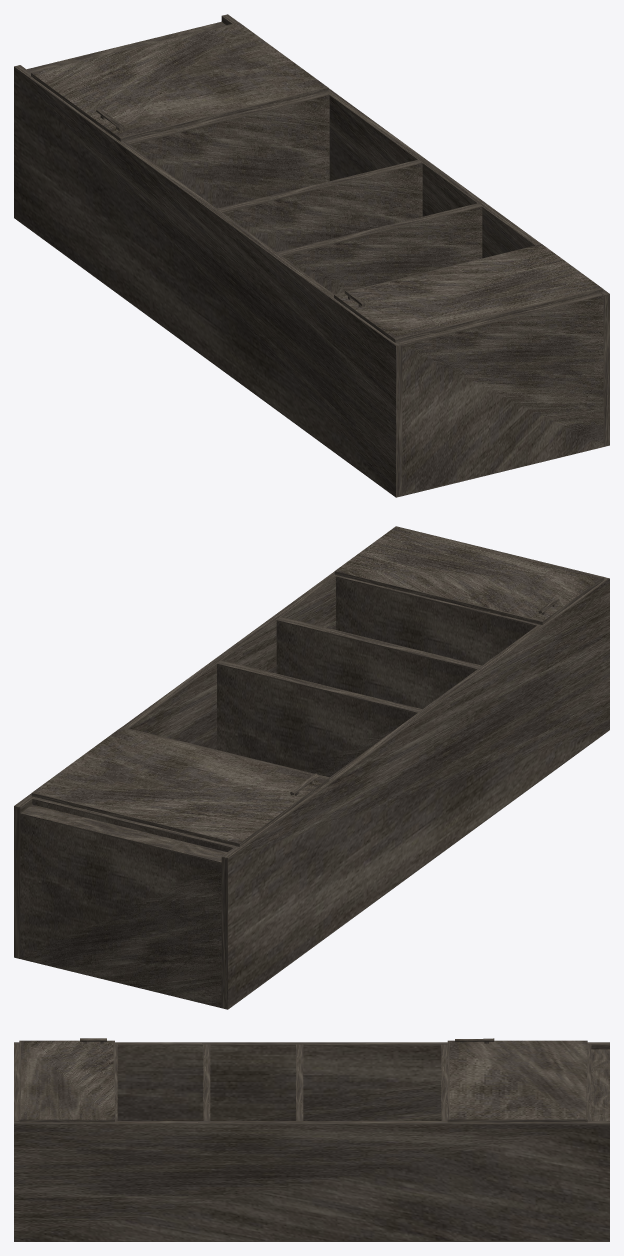
The model's file is bookshelf380_wtf.obj.
The picture shows the model from 3 angles, top to bottom: view 1: azimuth 30°, elevation 25°; view 2: azimuth 150°, elevation 25°; view 3: azimuth 270°, elevation 25°; orthographic projection. The views are drawn at different scales.
Parts seen in each view (by area): view 1: group6, group7, group9, group14, group13, group12, group11, group5, group15; view 2: group6, group15, group9, group12, group13, group11, group10, group5, group4; view 3: group5, group6, group9, group13, group15, group11, group12, group14, group7, group4.
Part boxes in pixels (box(x1,y1,x2,y2)): group6: box(14, 65, 402, 497); group7: box(399, 293, 603, 495); group9: box(31, 22, 328, 141); group14: box(125, 92, 329, 208); group13: box(334, 244, 603, 342); group12: box(217, 160, 422, 252); group11: box(277, 203, 482, 294); group5: box(221, 14, 609, 446); group15: box(27, 21, 225, 72); group6: box(221, 577, 609, 1009); group15: box(20, 804, 226, 1007); group9: box(31, 727, 329, 846); group12: box(217, 660, 422, 777); group13: box(334, 526, 603, 625); group11: box(276, 616, 481, 709); group10: box(336, 575, 538, 665); group5: box(14, 571, 336, 958); group4: box(32, 797, 235, 852); group5: box(14, 1121, 609, 1241); group6: box(14, 1042, 609, 1120); group9: box(447, 1040, 587, 1122); group13: box(19, 1040, 114, 1122); group15: box(591, 1049, 609, 1120); group11: box(203, 1044, 210, 1120); group12: box(296, 1044, 303, 1120); group14: box(441, 1044, 447, 1120); group7: box(14, 1044, 19, 1120); group4: box(587, 1044, 591, 1120).
Bounding box in the file's own units: 213 × 154 × 660.
